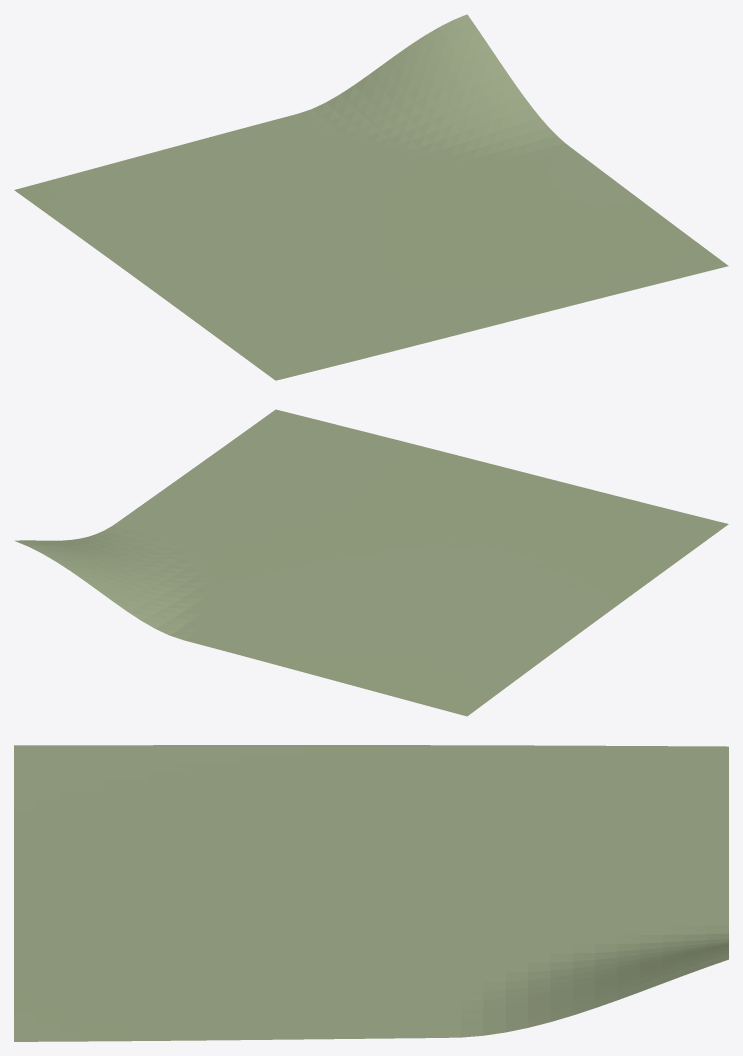
File: desert-21-29.glb
3 renders of one model, top to bottom at view 1: azimuth 30°, elevation 25°; view 2: azimuth 150°, elevation 25°; view 3: azimuth 270°, elevation 25°, orthographic. The views are drawn at different scales.
Visible parts, largest first — view 1: desert-21-29; view 2: desert-21-29; view 3: desert-21-29.
Boxes of the visible parts, x1,y1,x2,y2 form: desert-21-29: (14,14,728,380); desert-21-29: (14,409,728,716); desert-21-29: (14,745,728,1041).
Size of the model in its own units: 512 by 70.42 by 512.
